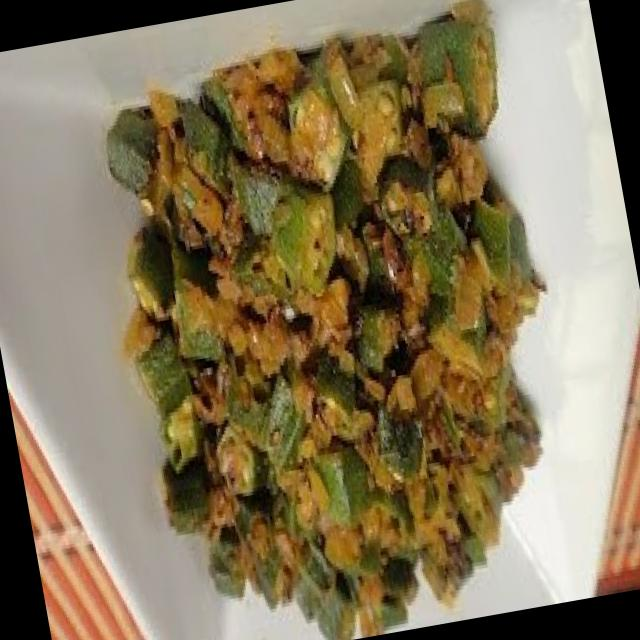BhindiMasala: (73, 0, 603, 640)
